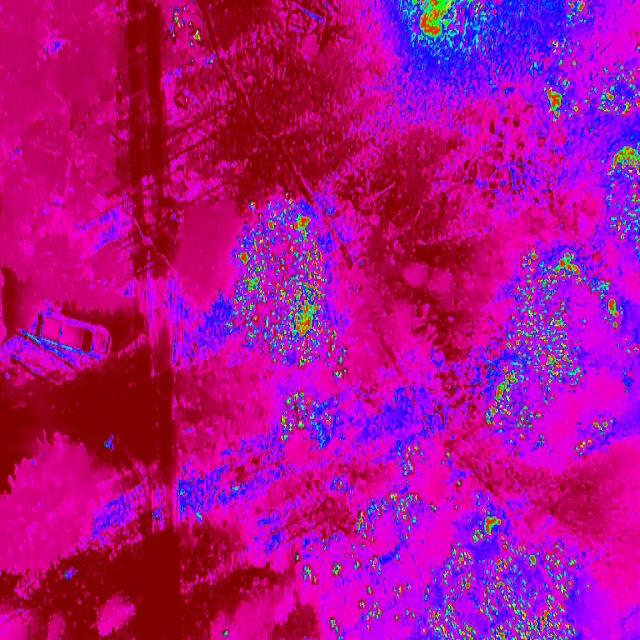fire: (428, 486, 584, 640), (225, 198, 354, 380), (399, 0, 575, 84), (511, 250, 594, 396), (484, 347, 552, 449), (273, 389, 349, 459), (603, 141, 640, 261), (390, 441, 428, 535), (591, 60, 640, 121), (568, 418, 622, 458), (545, 72, 580, 128), (592, 275, 622, 327), (358, 498, 390, 538), (358, 585, 386, 629), (324, 612, 348, 640), (296, 558, 316, 588), (327, 558, 344, 580)
